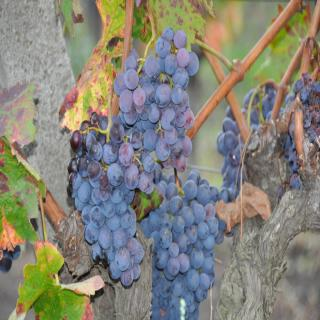Grape: (66, 29, 320, 320), (0, 249, 12, 271), (12, 244, 20, 260)
